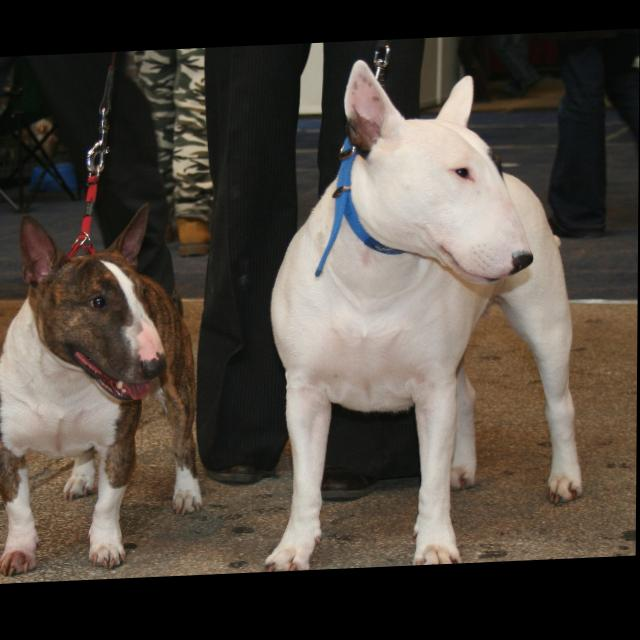bullterrier: (265, 54, 588, 575), (1, 201, 207, 577)
